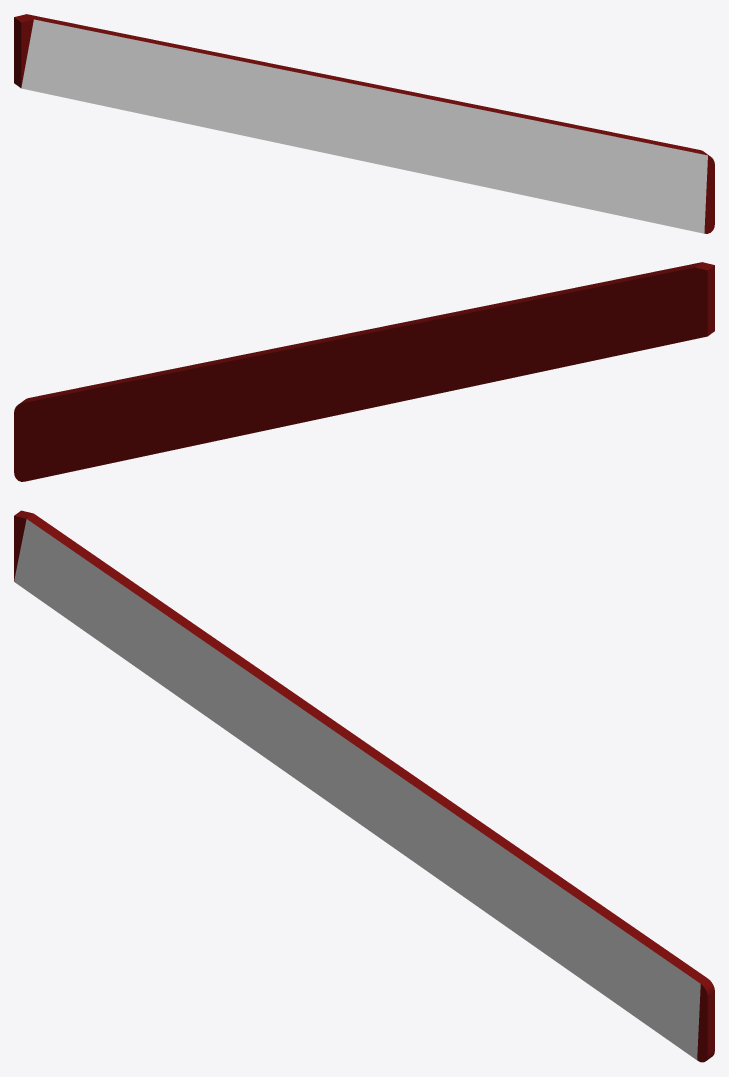
Rendered from WhareMaihiRight.fbx.
3 views of the same model, one above another, from view 1: azimuth 30°, elevation 25°; view 2: azimuth 150°, elevation 25°; view 3: azimuth 330°, elevation 25° (orthographic).
Parts seen in each view (by area): view 1: WhareMaihi2; view 2: WhareMaihi2; view 3: WhareMaihi2.
Part boxes in pixels (x1=…): WhareMaihi2: x1=14, y1=14, x2=714, y2=233; WhareMaihi2: x1=14, y1=262, x2=714, y2=481; WhareMaihi2: x1=14, y1=510, x2=714, y2=1062.
Bounding box in the file's own units: 550 × 287 × 10.
